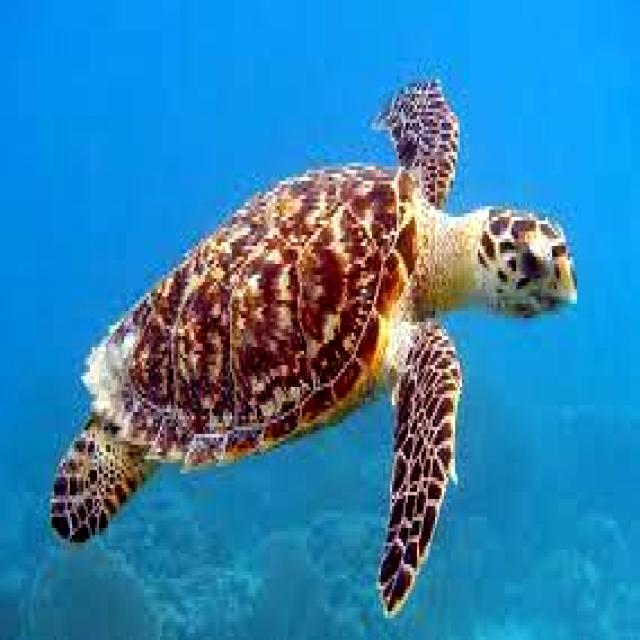Sea turtle: (43, 81, 582, 623)
